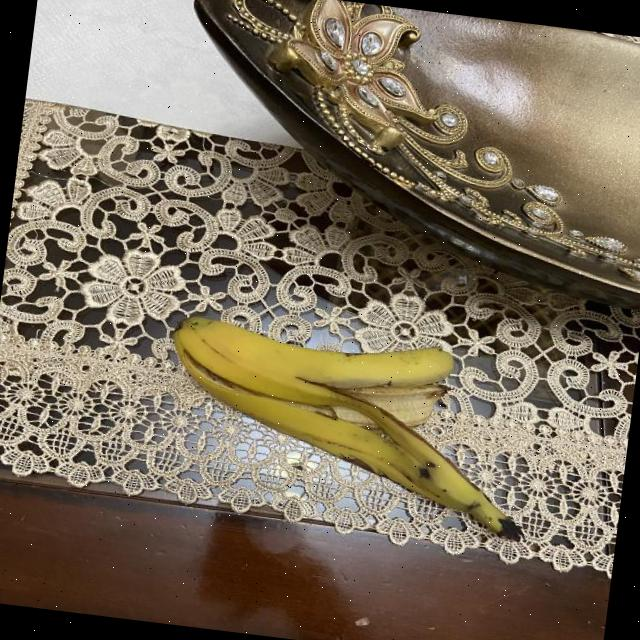banana-peel: (151, 311, 544, 542), (165, 310, 457, 430)
